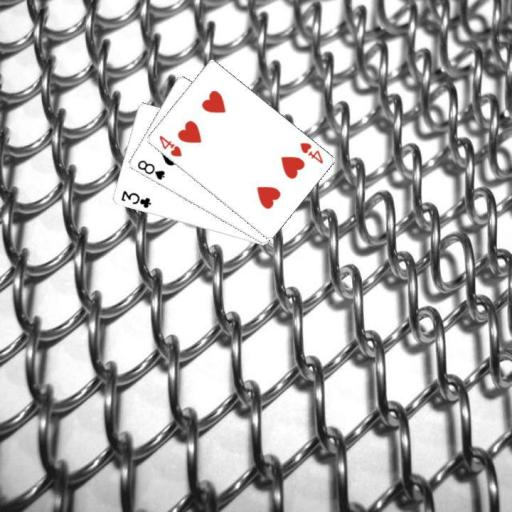3C: (118, 188, 153, 210)
4H: (155, 132, 183, 159), (297, 139, 324, 165)
8S: (134, 157, 166, 181)
